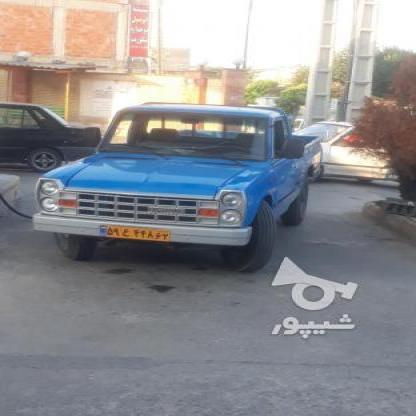licence: (93, 222, 171, 240)
